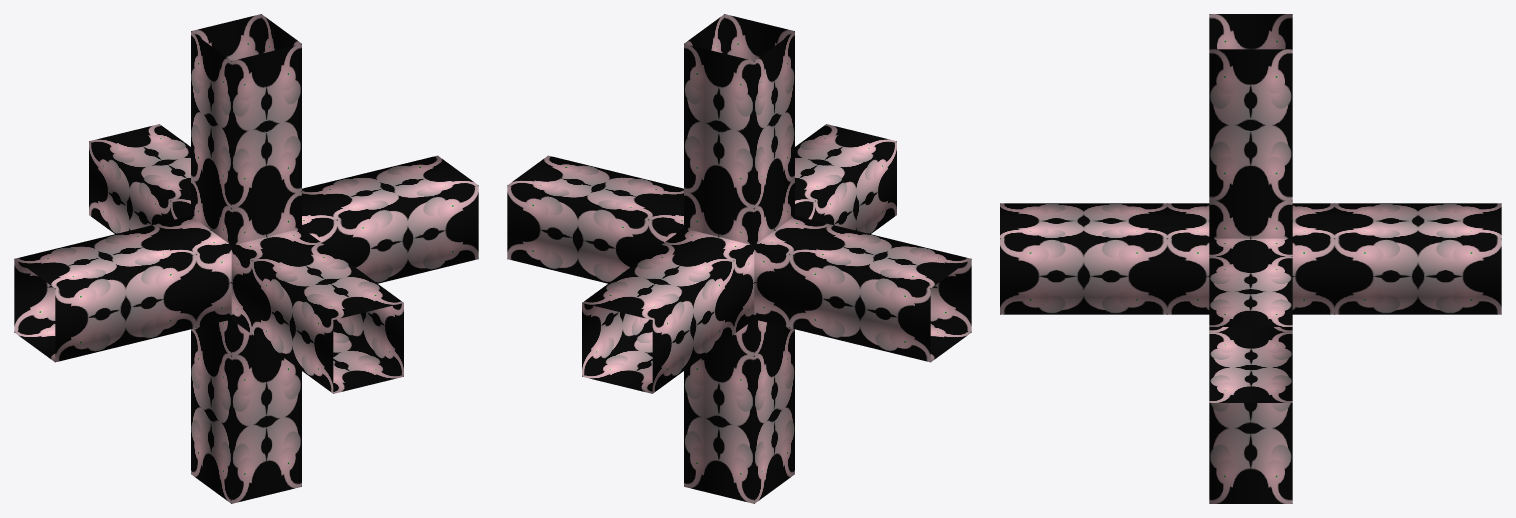
Rendered from Tetrahemihexacron21.gltf.
The picture shows the model from 3 angles, left to right: view 1: azimuth 30°, elevation 25°; view 2: azimuth 150°, elevation 25°; view 3: azimuth 270°, elevation 25°; orthographic projection. The views are drawn at different scales.
Parts seen in each view (by area): view 1: Tetrahemihexacron1; view 2: Tetrahemihexacron1; view 3: Tetrahemihexacron1.
Part boxes in pixels (box(x1,y1,x2,y2)): Tetrahemihexacron1: box(14, 14, 478, 503); Tetrahemihexacron1: box(507, 14, 971, 503); Tetrahemihexacron1: box(1000, 14, 1501, 503).
Size of the model in its own units: 6 by 6 by 6.
Materials: 1 (1 with a texture image).
